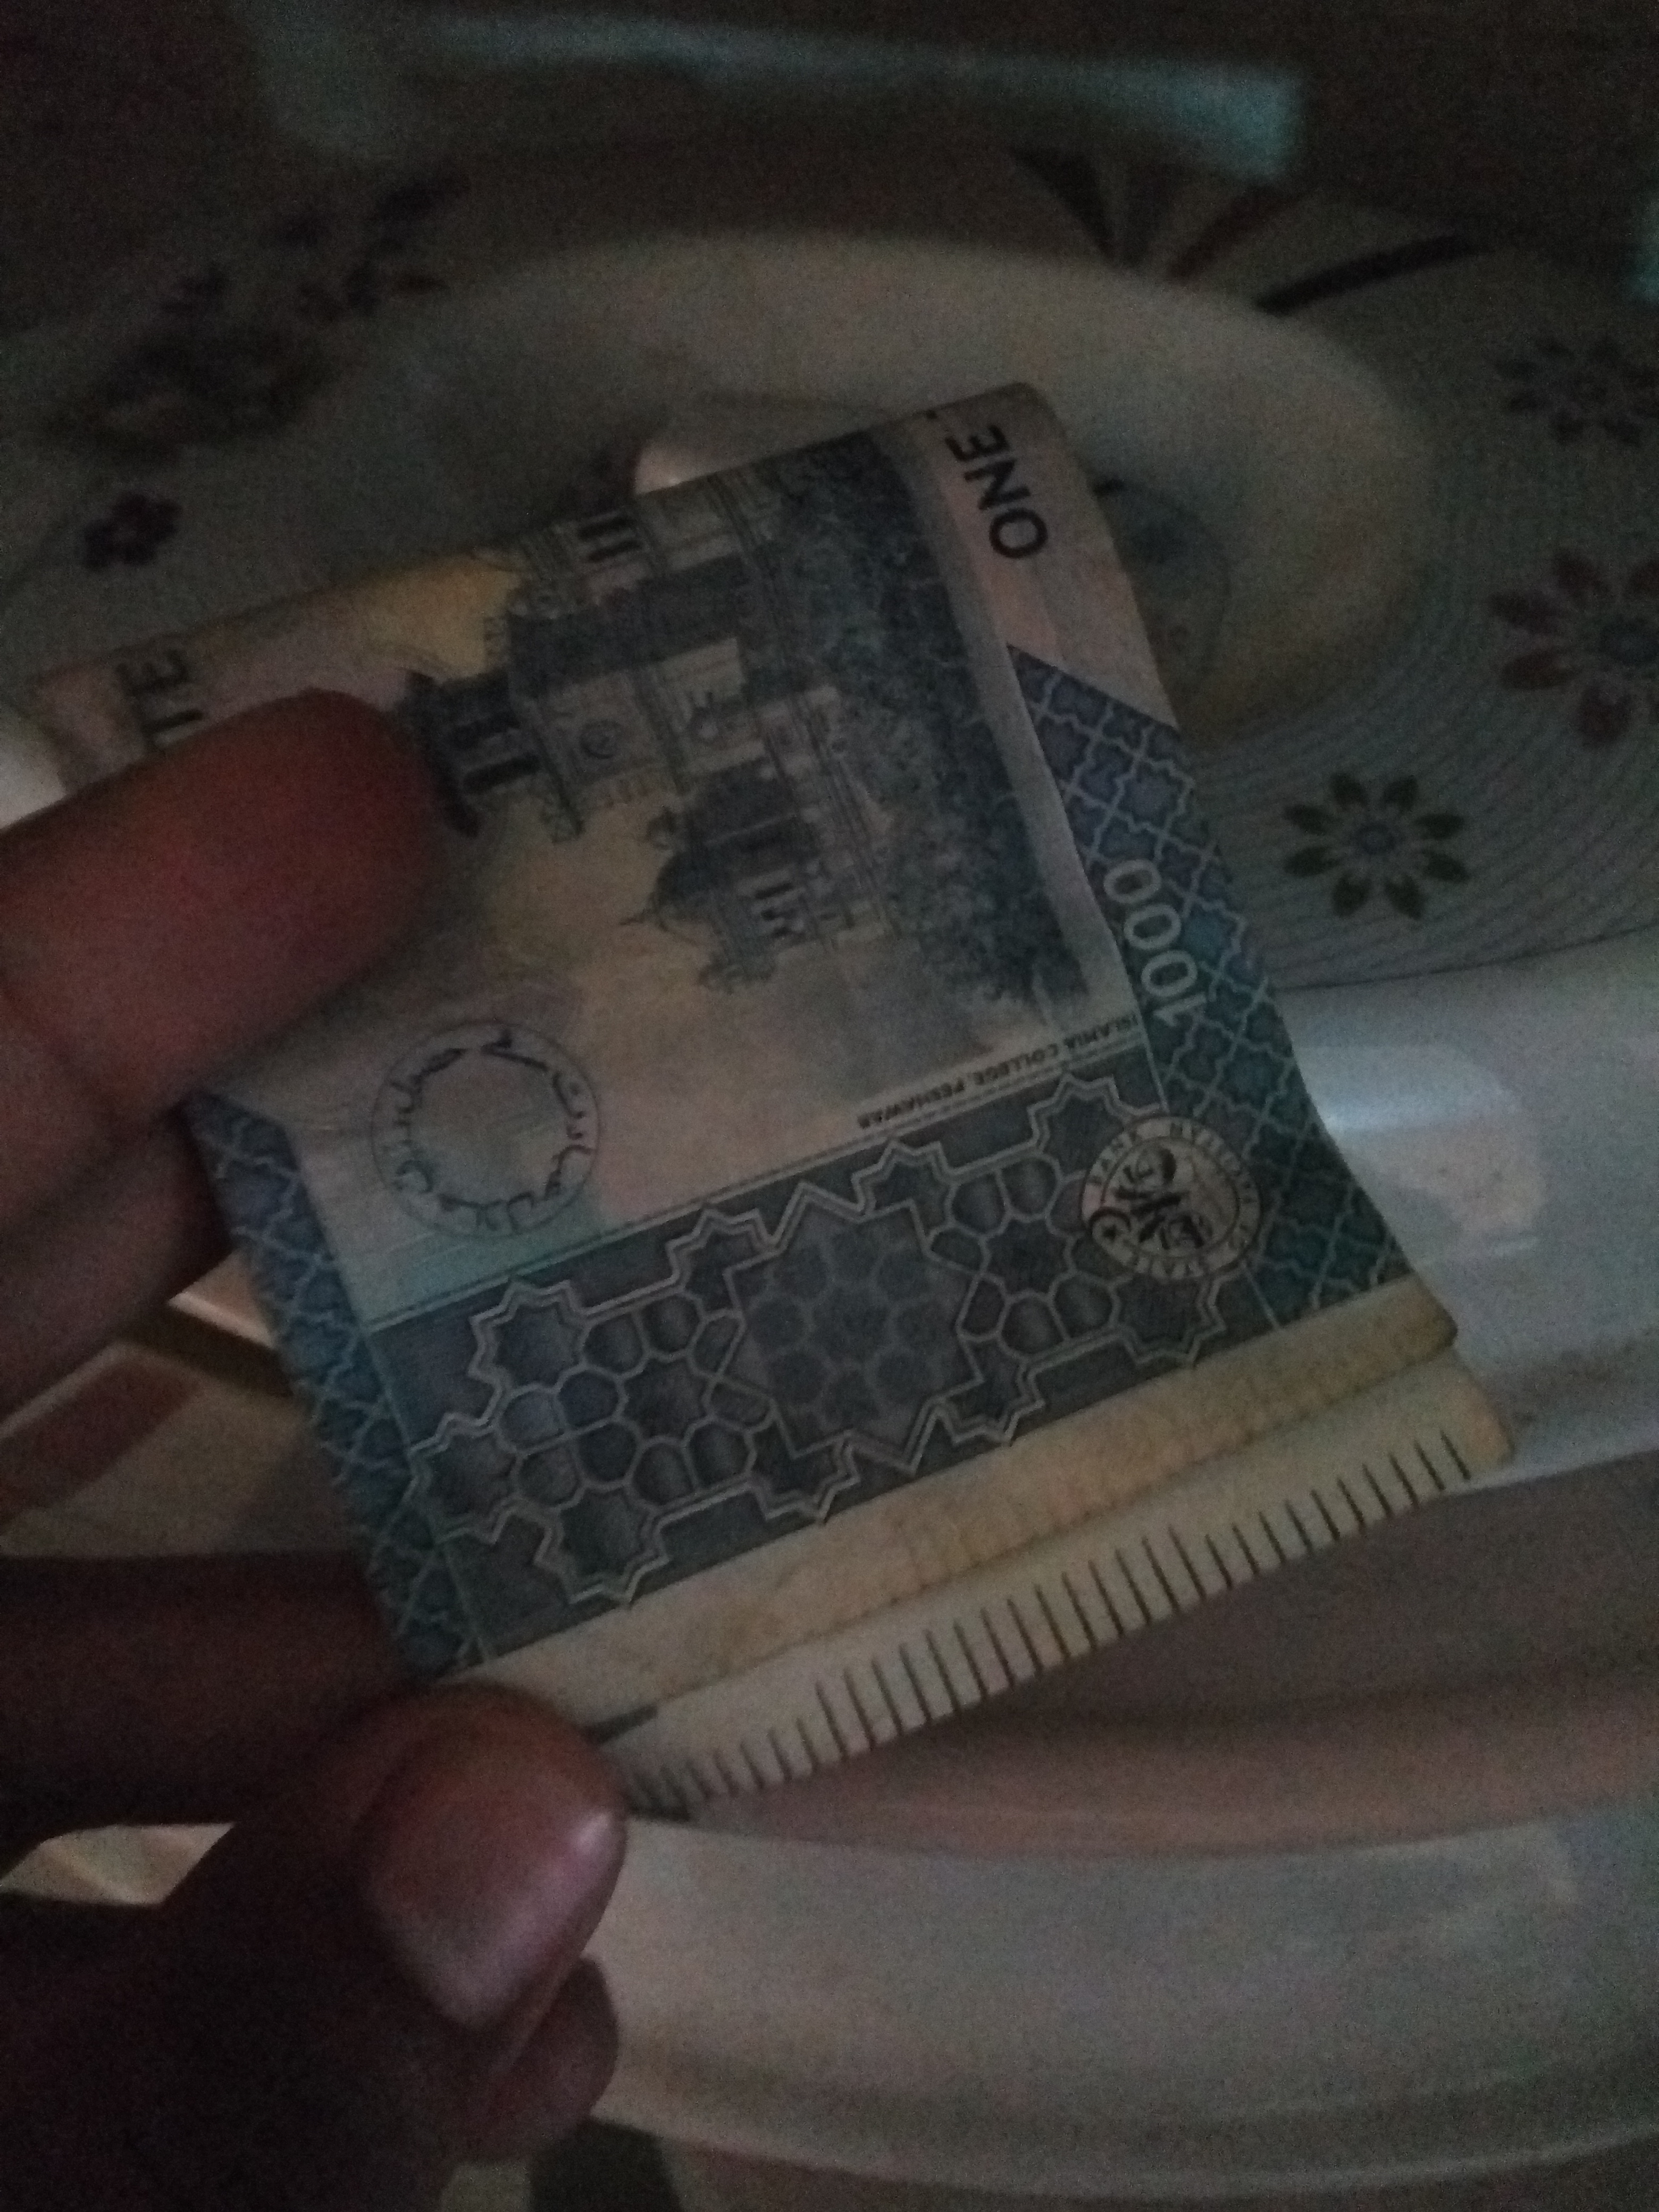1000 rupee: (96, 387, 1516, 1825)
